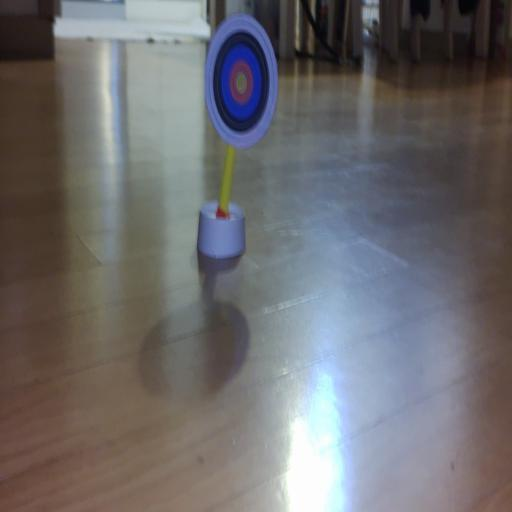target: (205, 14, 277, 148)
